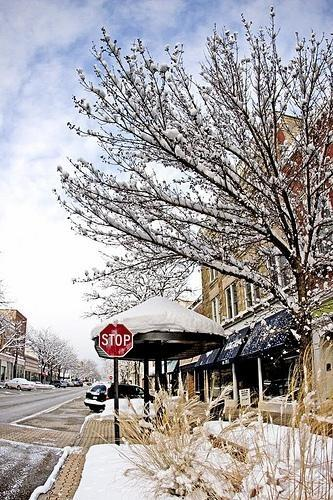car: (84, 382, 156, 411), (2, 377, 34, 392), (48, 380, 68, 388), (67, 382, 83, 386)
